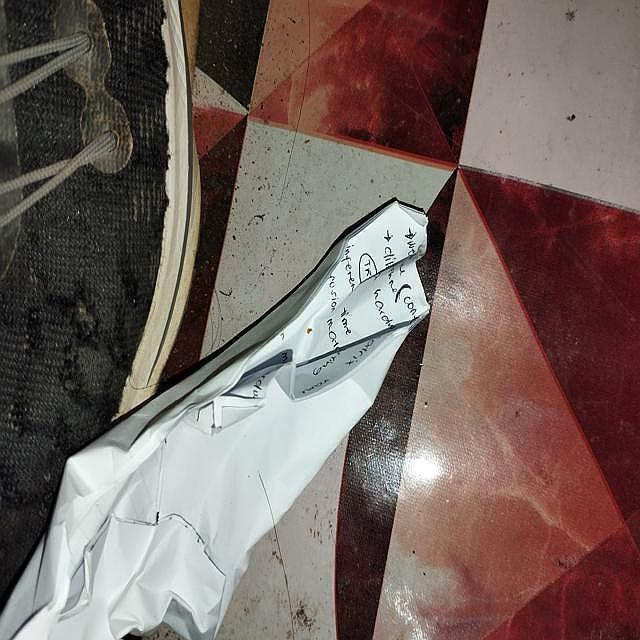Biodegradable: (1, 199, 431, 640)
